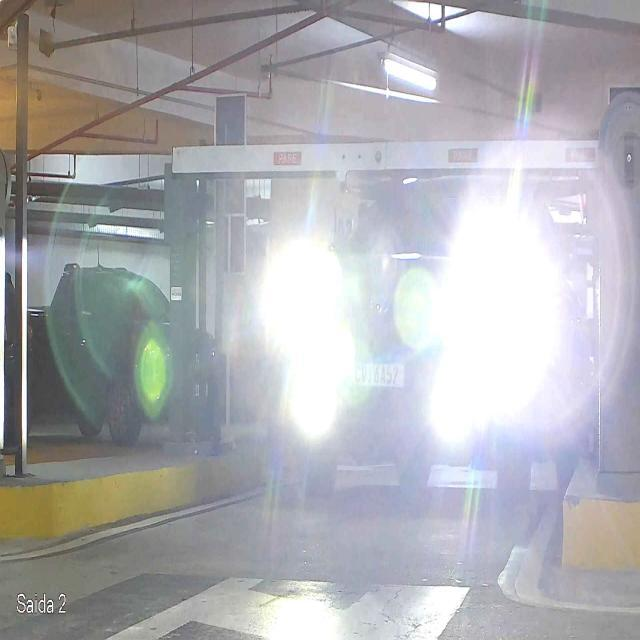mercosul_plate: (349, 356, 406, 388)
